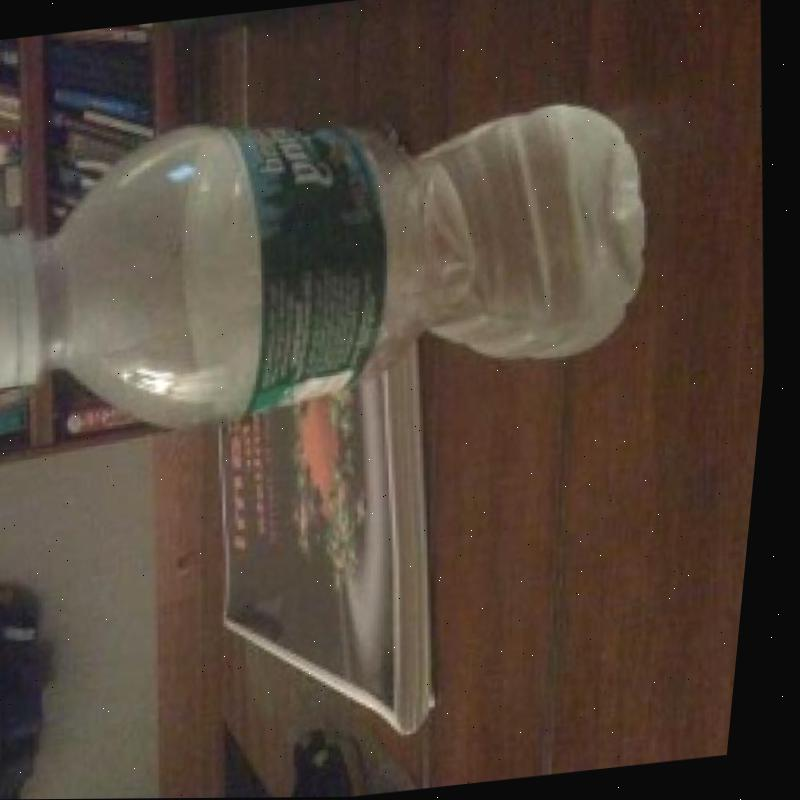botella: (0, 72, 682, 458)
